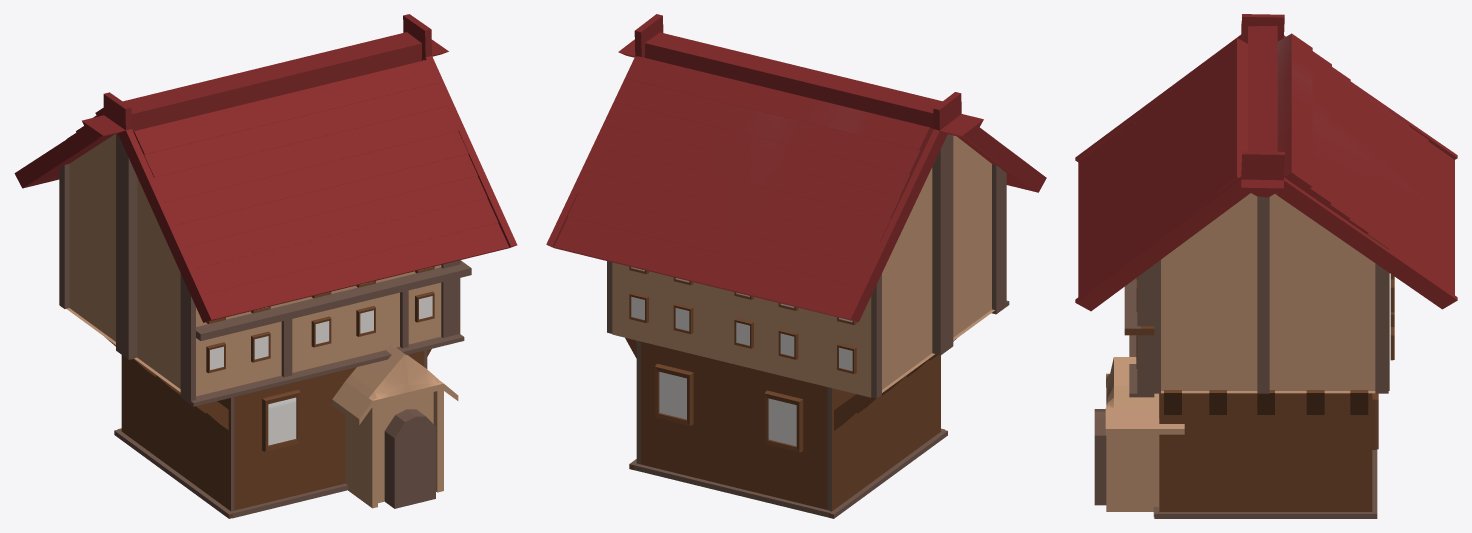
Rendered from house_1_fbx.fbx.
3 views of the same model, side by side, from view 1: azimuth 30°, elevation 25°; view 2: azimuth 150°, elevation 25°; view 3: azimuth 270°, elevation 25° (orthographic). The views are drawn at different scales.
Visible parts, largest first — view 1: house_3; view 2: house_3; view 3: house_3.
Part boxes in pixels (<box>): house_3: <box>14,14,517,518</box>; house_3: <box>546,14,1046,518</box>; house_3: <box>1075,14,1457,518</box>.
Size of the model in its own units: 605 by 663 by 597.
1 material, 1 textured.
